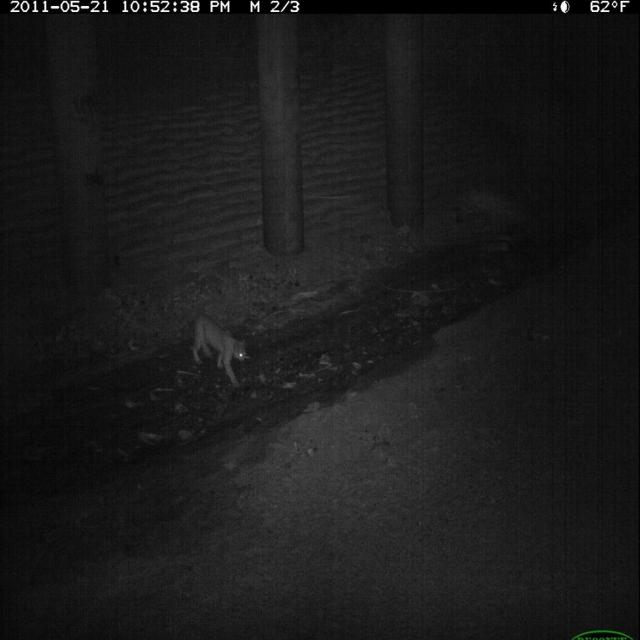bobcat: (190, 309, 249, 391)
